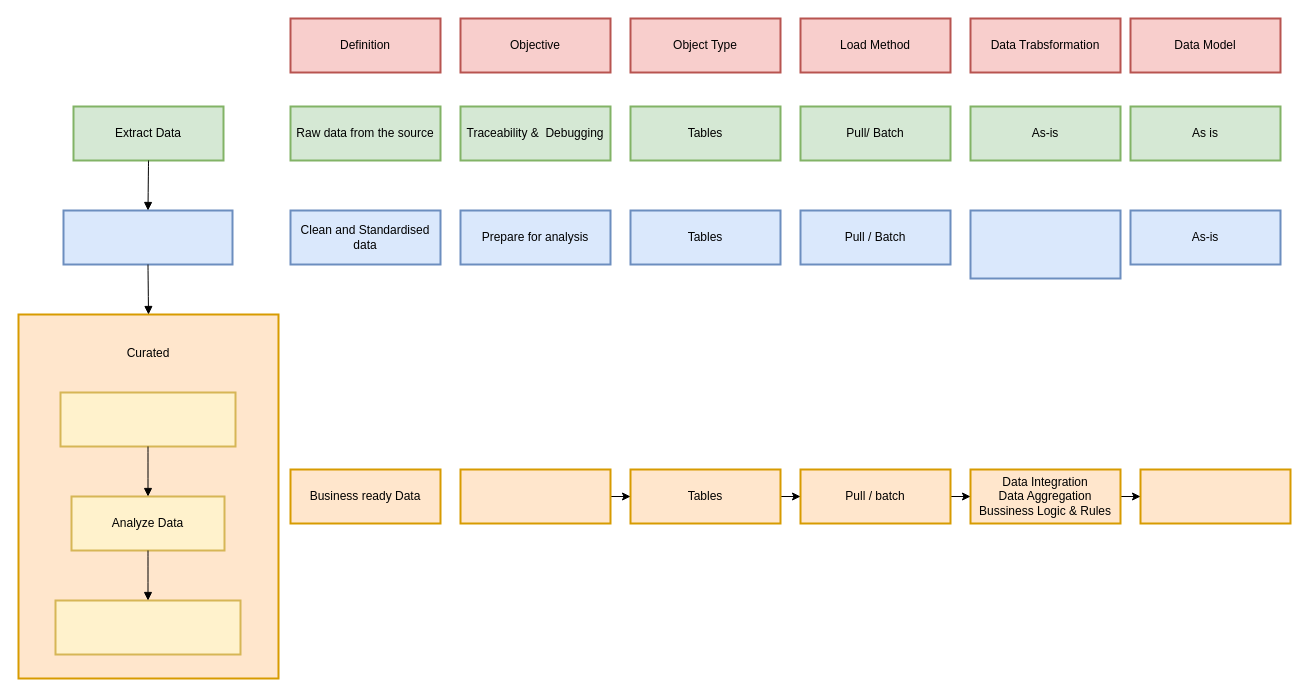
Image size: 1308x696. Some labels were removed from this diagram. The shapes that lost their labels are listed below. From the top down, each one's box as (x1, y1, x2, y2) in pixels, then its label:
(62, 209, 233, 265): Transform Data
(969, 209, 1121, 279): Data Cleaning Data Standardisation Data normalisation Data Enrichment
(59, 391, 236, 447): Data Warehouse
(459, 468, 611, 524): Provide Data to be consumed for reporting
(1139, 468, 1291, 524): Star Schema
(54, 599, 241, 655): Generate Reports
